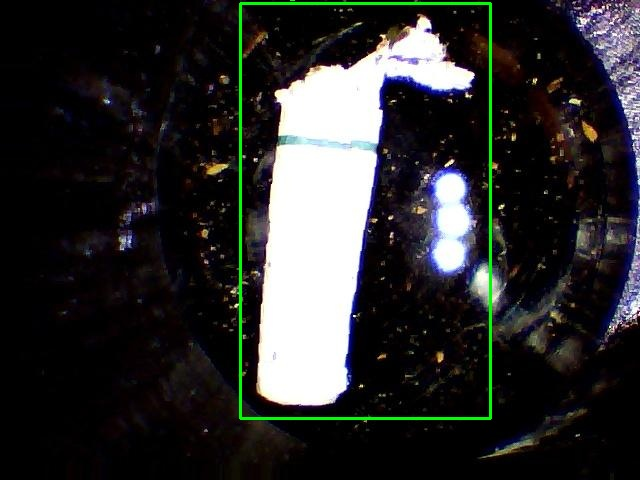megot: (240, 3, 490, 418)
